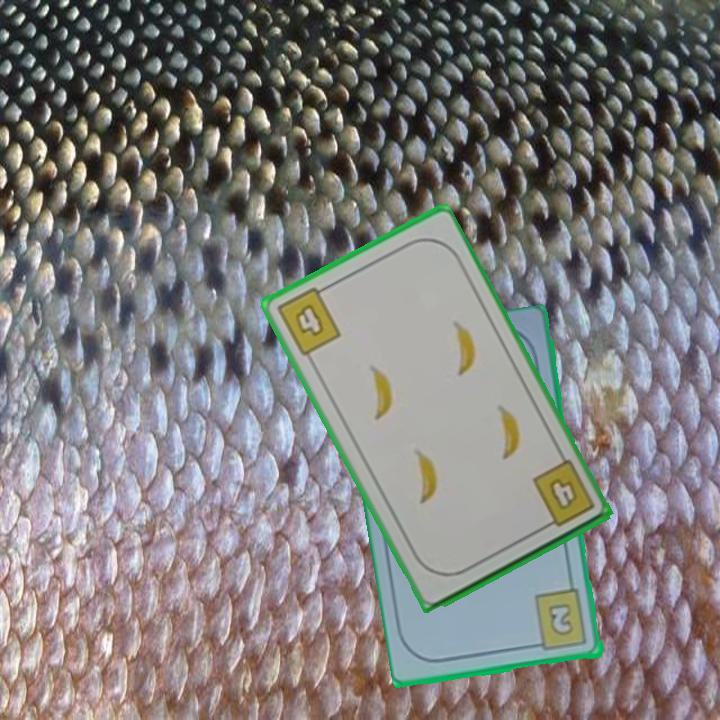2b: (529, 586, 591, 654)
4b: (272, 281, 344, 359), (528, 456, 598, 533)
